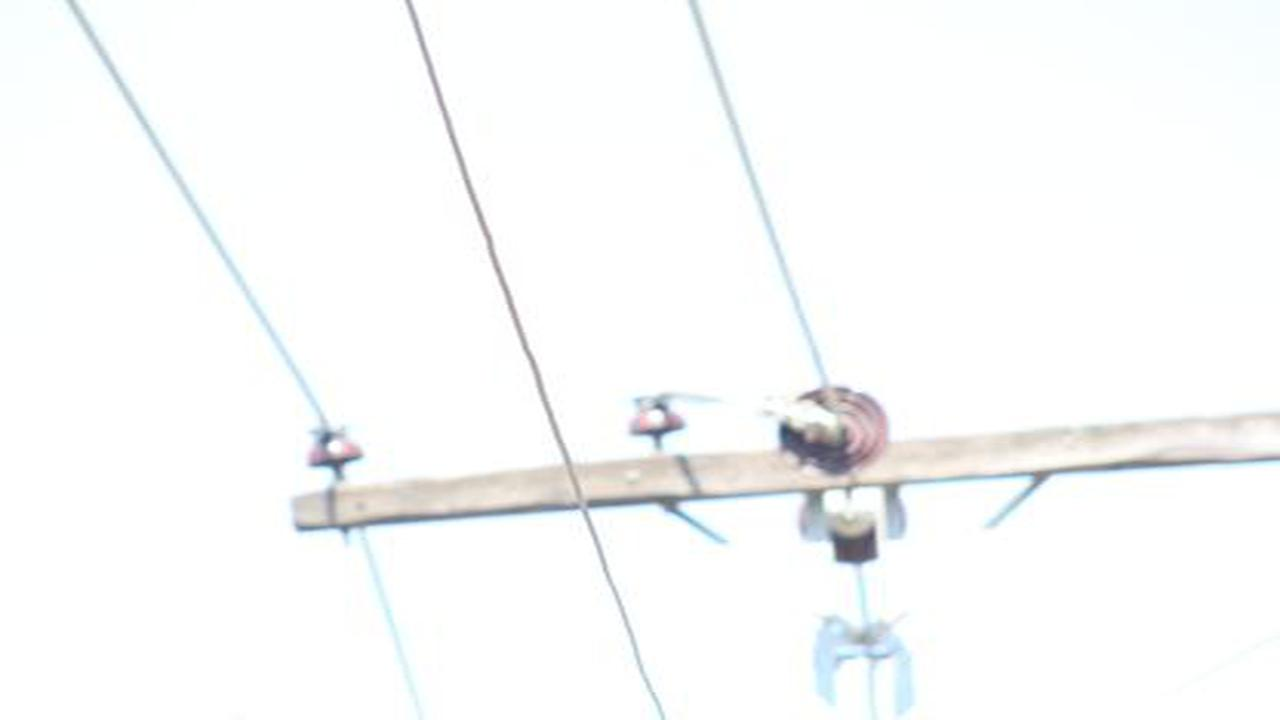insulator_disc: (774, 383, 892, 473), (793, 493, 909, 566)
insulator_pin: (625, 389, 689, 440), (307, 418, 369, 470)
